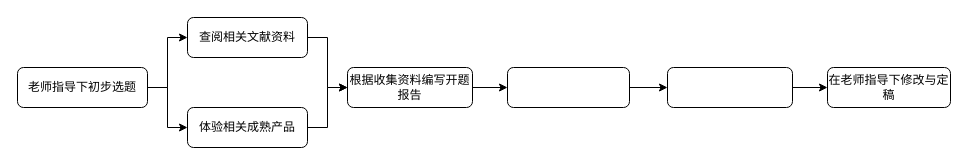
Some shapes in this 968 by 165 pixel diagram are drawn without their labels. Here are the shapes that lost their labels. From the top down, the centre of each, then its label:
At pixel 568 87: "进行系统设计和开发".
At pixel 729 87: "编写毕业论文".
